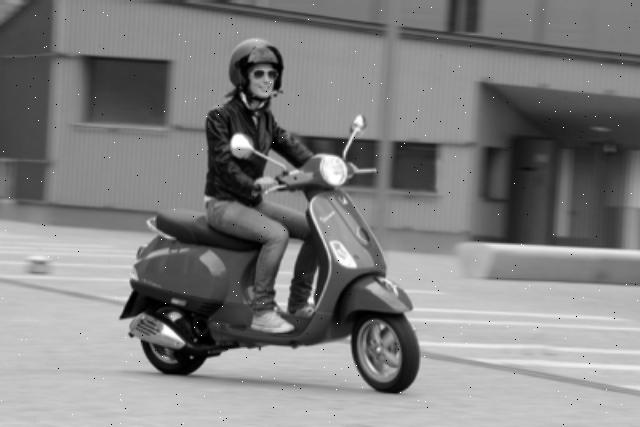With Helmet: (224, 33, 288, 106)
